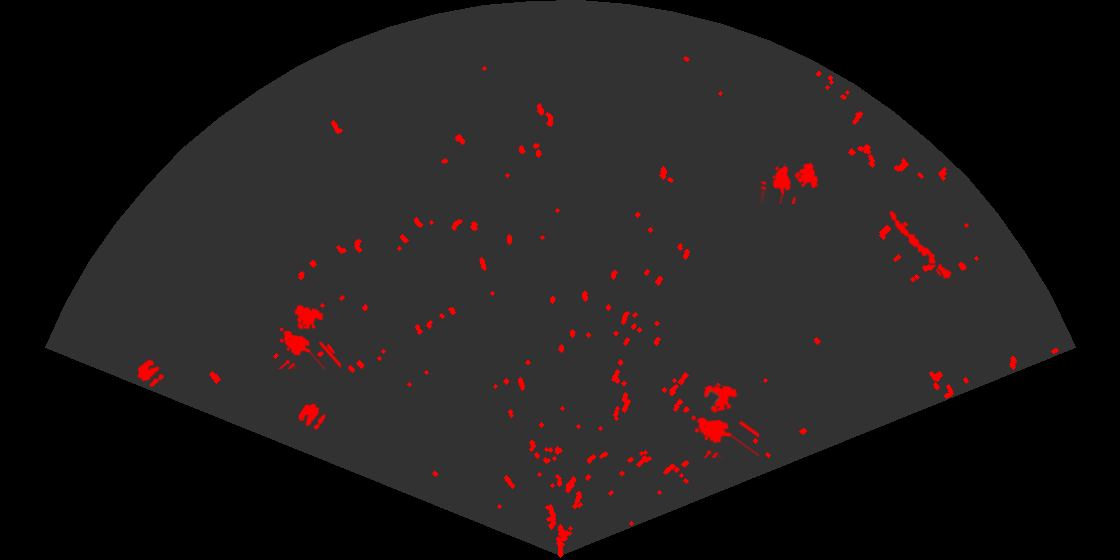ball: (136, 358, 166, 389), (297, 402, 327, 431)
cage: (689, 384, 759, 458), (277, 303, 341, 369), (761, 161, 820, 204)
chain: (888, 209, 958, 288)
